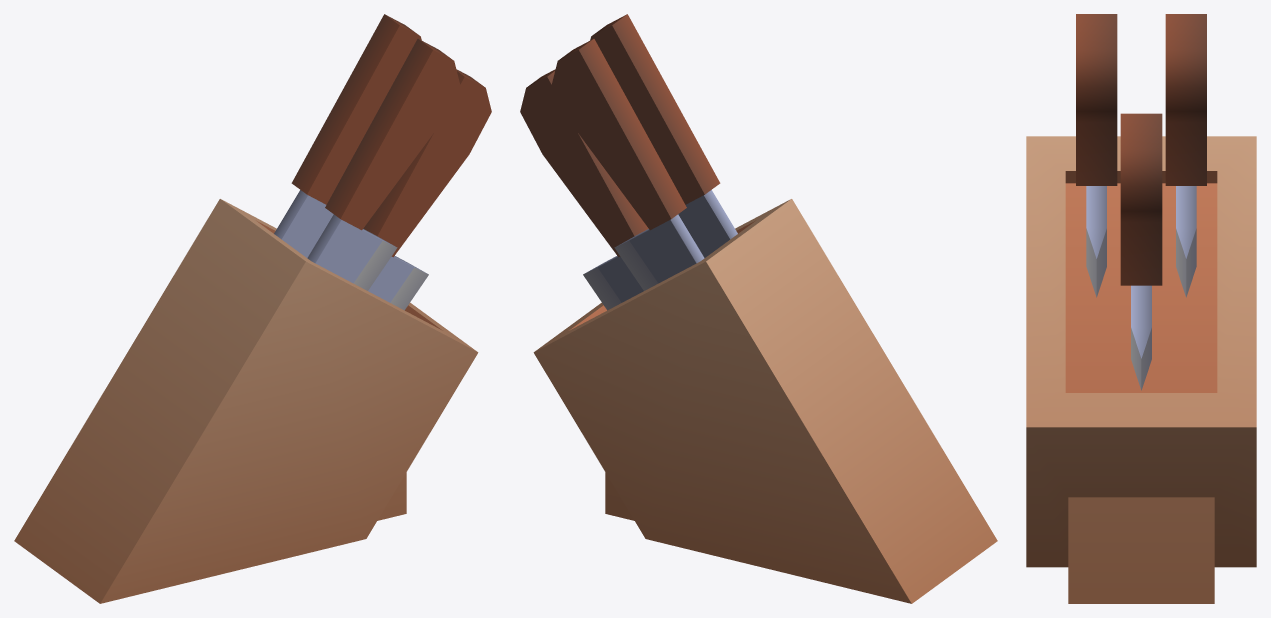
File: knife-block.glb
3 views of the same model, side by side, from view 1: azimuth 30°, elevation 25°; view 2: azimuth 150°, elevation 25°; view 3: azimuth 270°, elevation 25° (orthographic). The views are drawn at different scales.
Parts seen in each view (by area): view 1: knife-block, cooking-knife (×3); view 2: knife-block, cooking-knife (×3); view 3: knife-block, cooking-knife (×3).
Part boxes in pixels (x1,y1,x2,y2): knife-block: (14,199,478,603); cooking-knife (×3): (274,14,491,310); knife-block: (533,199,997,603); cooking-knife (×3): (520,14,737,310); knife-block: (1026,136,1256,603); cooking-knife (×3): (1076,14,1206,390).
Size of the model in its own units: 0.6359 by 0.6624 by 0.2218.
